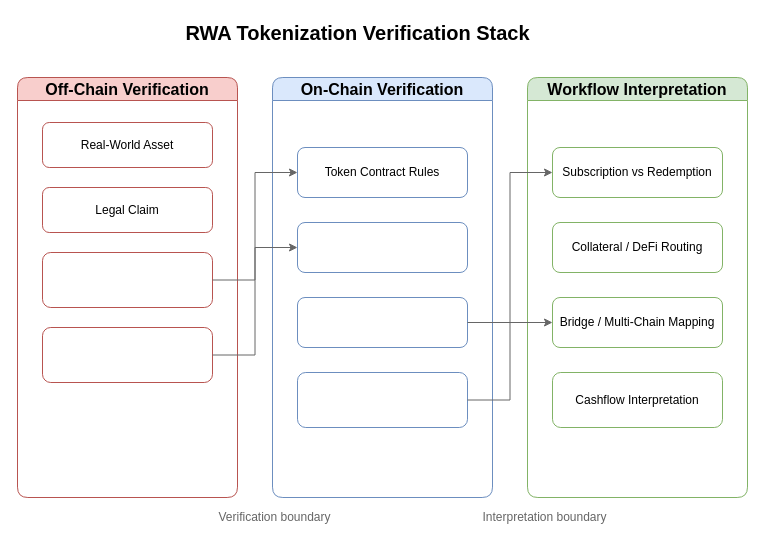
Image size: 765x544. Some labels were removed from this diagram. The centre of each missing label's shape, as x and y in pixels:
Attestation / NAV Process: (x=127, y=354)
Custody / Redemption Terms: (x=127, y=280)
Mint / Burn History: (x=382, y=247)
Transfer Log: (x=382, y=322)
Whitelists / Admin Actions: (x=382, y=400)
